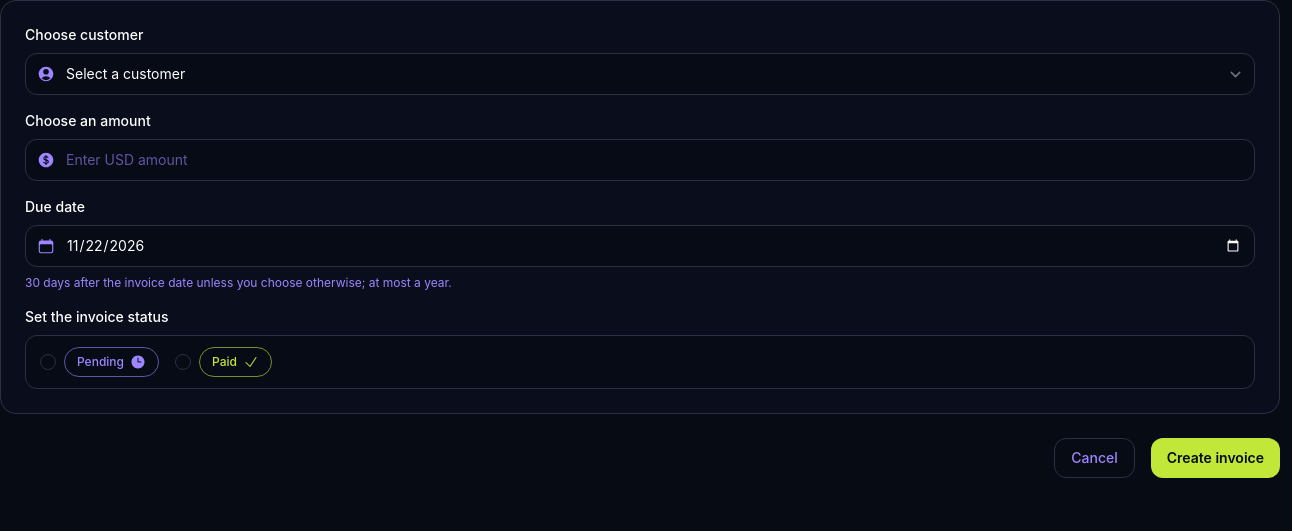
Test: the invoice create form, for an account full of invoices › says why nothing was created, in a region read out when it changes
Select "Amy Burns" in the dropdown labelled "Choose customer" at (640, 74), box x1=25 y1=53 x2=1255 y2=95
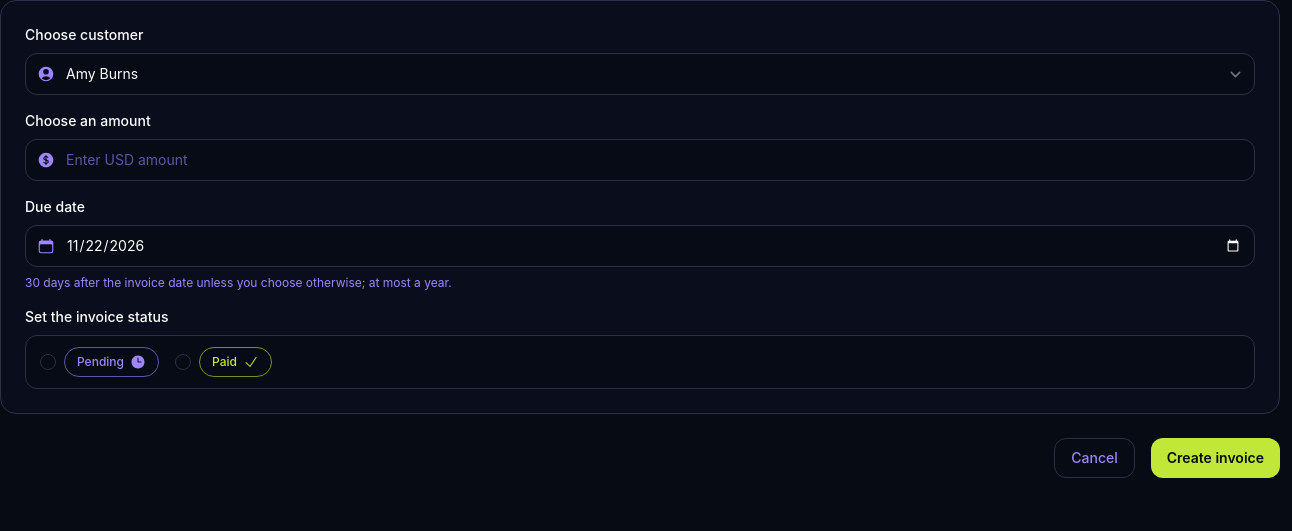
Type "12.50" into the number field labelled "Choose an amount" at (640, 160), box x1=25 y1=139 x2=1255 y2=181
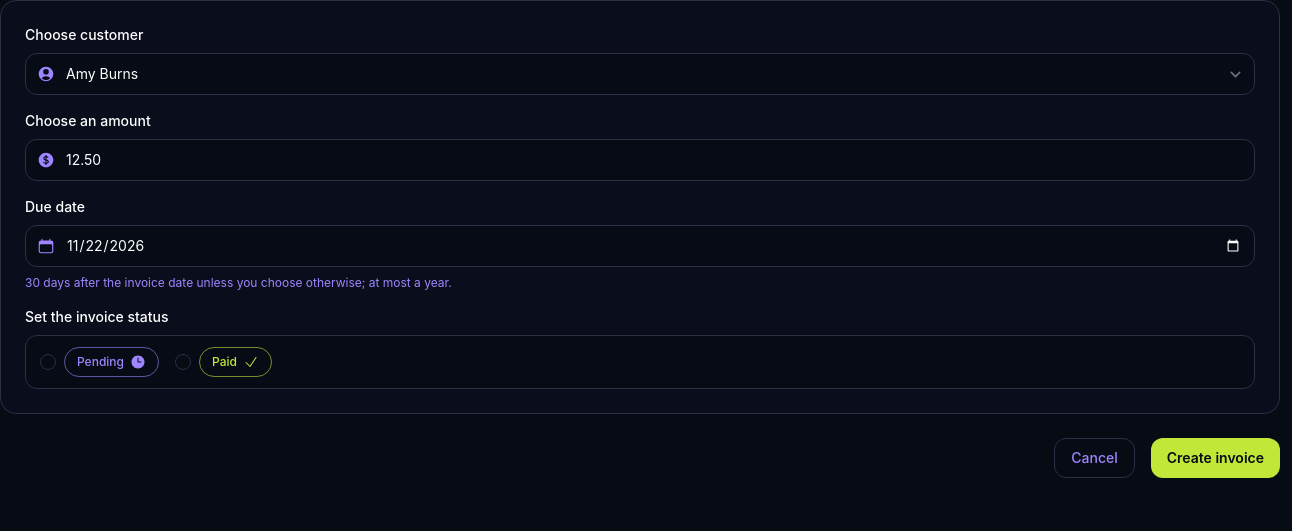
Click the radio button labelled "Paid" at (183, 362), box x1=175 y1=354 x2=191 y2=370
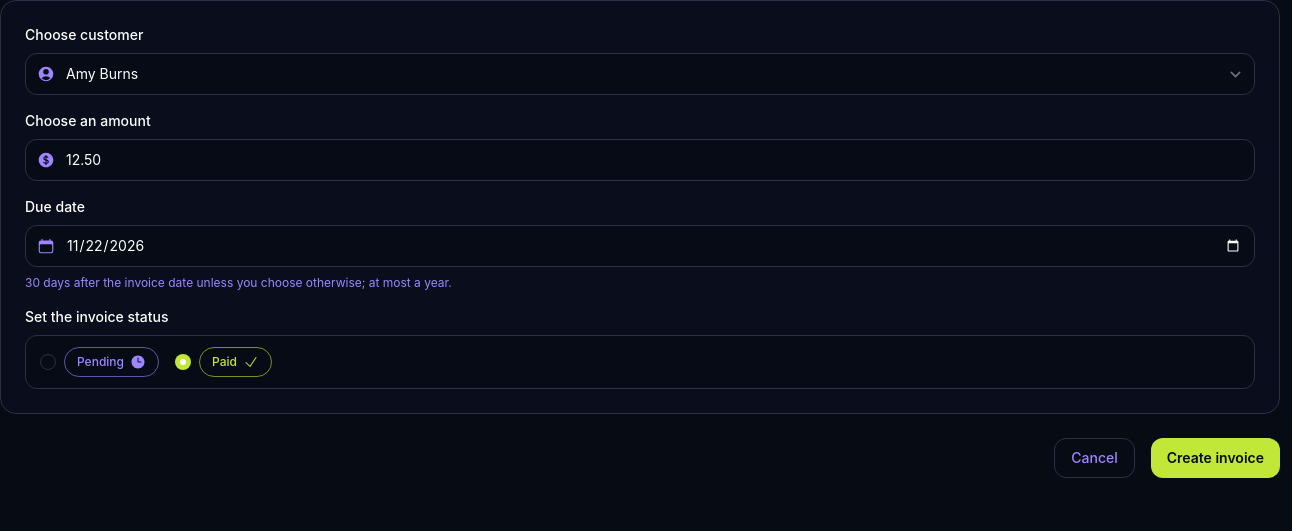
Click the button "Create invoice" at (1215, 458), box x1=1151 y1=438 x2=1280 y2=478
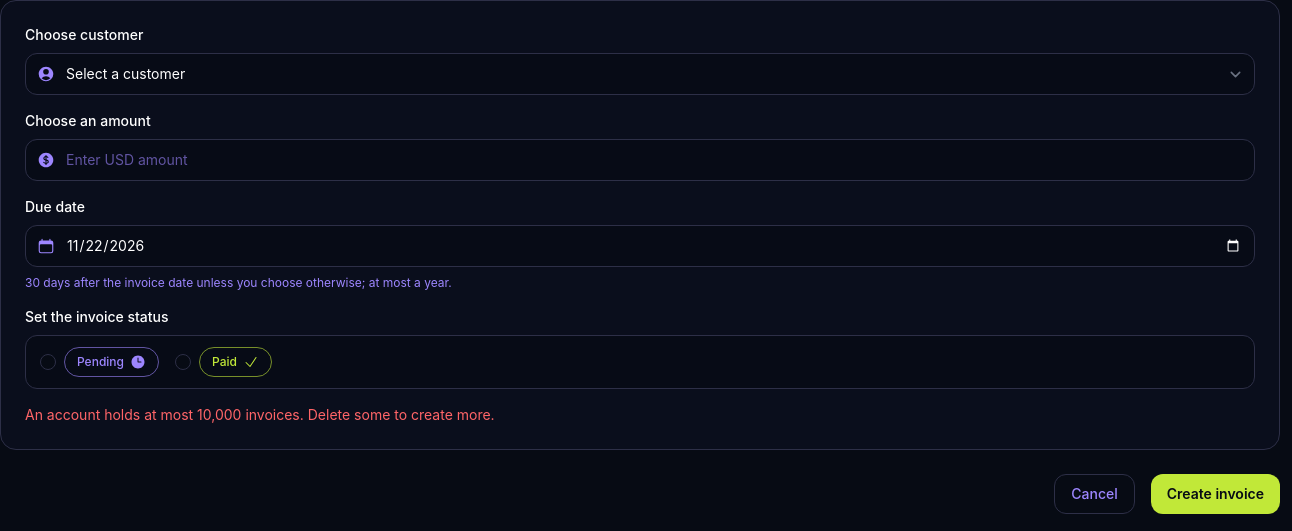
Now the text "An account holds at most 10,000 invoices. Delete some to create more." is shown, box x1=25 y1=406 x2=495 y2=423
